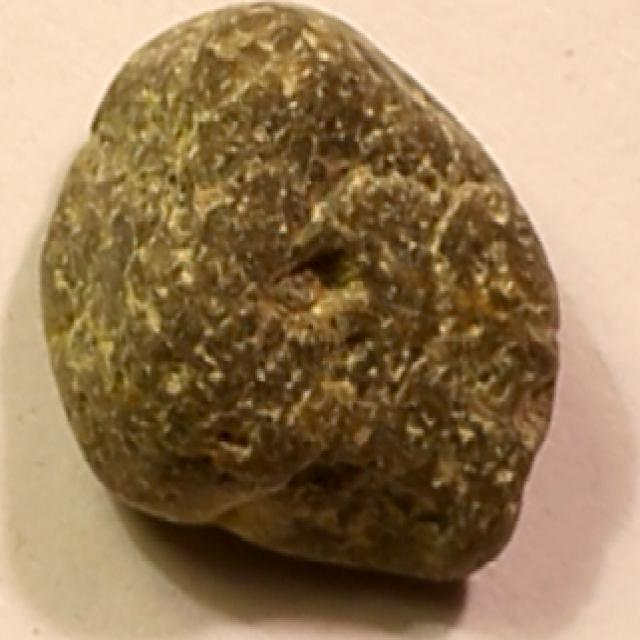stone: (34, 0, 564, 581)
